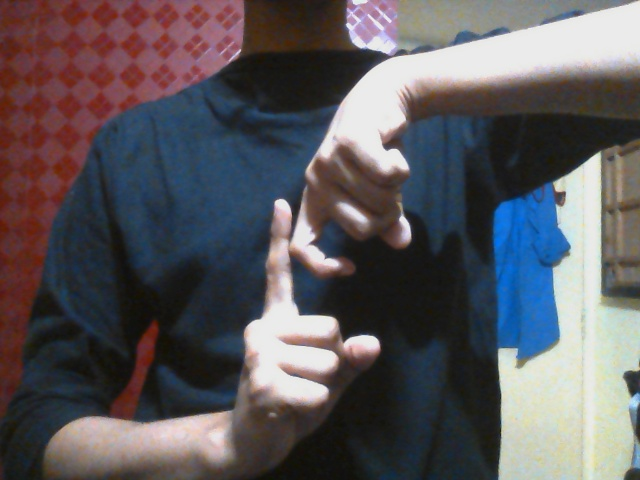K: (242, 143, 409, 440)
